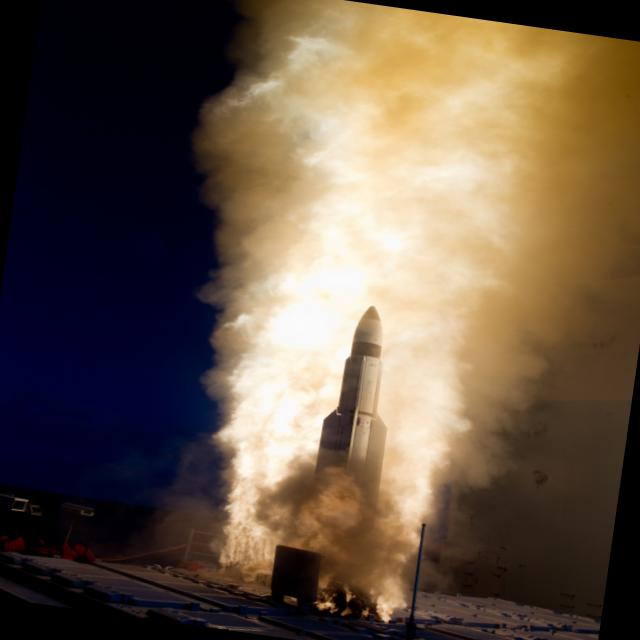rocket: (304, 302, 408, 552)
